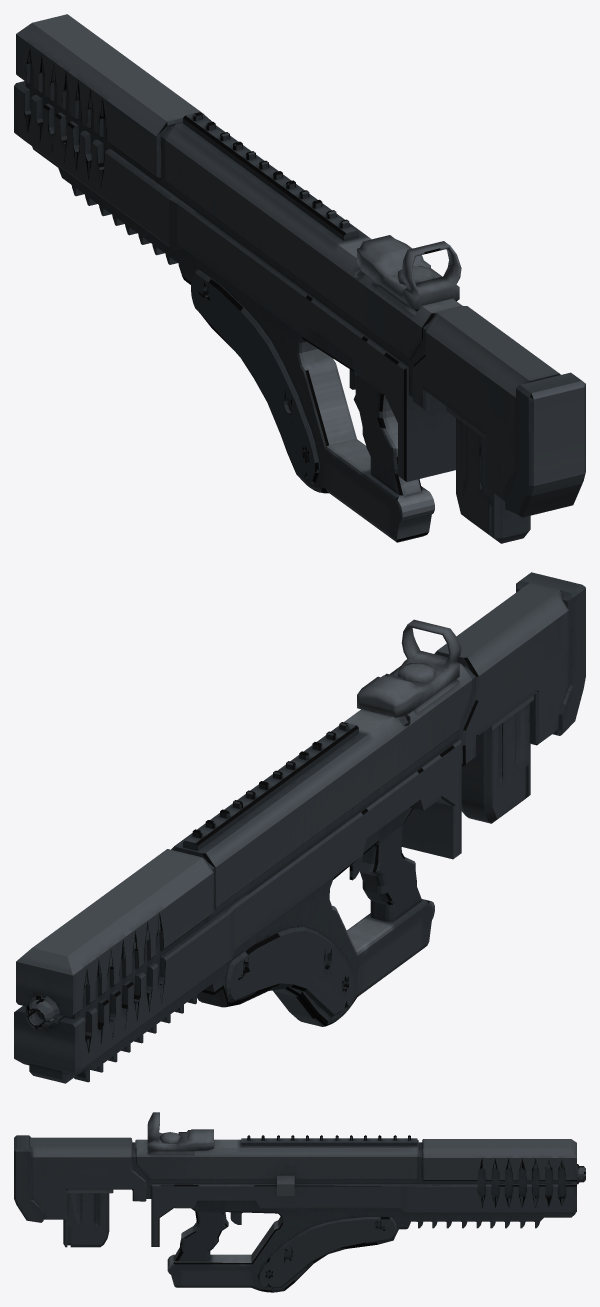
The model's file is assault_rifle.glb.
3 views of the same model, one above another, from view 1: azimuth 30°, elevation 25°; view 2: azimuth 150°, elevation 25°; view 3: azimuth 270°, elevation 25° (orthographic). The views are drawn at different scales.
Visible parts, largest first — view 1: assault_rifle, InsertedAmmo; view 2: assault_rifle, InsertedAmmo; view 3: assault_rifle, InsertedAmmo, ChargingHandle.
Boxes of the visible parts, left/top/right/bottom form: assault_rifle: left=14, top=14, right=585, bottom=542; InsertedAmmo: left=456, top=418, right=530, bottom=543; assault_rifle: left=14, top=572, right=585, bottom=1083; InsertedAmmo: left=461, top=703, right=530, bottom=823; assault_rifle: left=14, top=1112, right=585, bottom=1292; InsertedAmmo: left=63, top=1193, right=109, bottom=1247; ChargingHandle: left=277, top=1175, right=294, bottom=1195.
Bounding box in the file's own units: 0.1102 × 0.3722 × 1.12.
Materials: 1 (1 with a texture image).
